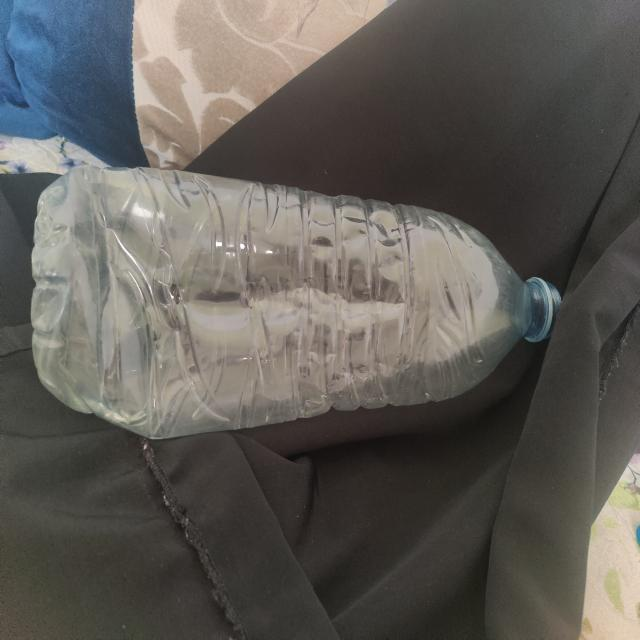plastic: (29, 169, 560, 440)
